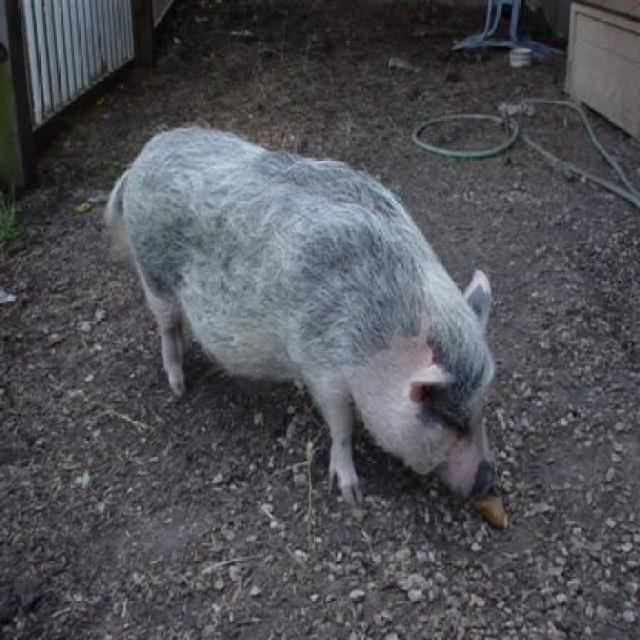pig: (110, 123, 498, 539)
